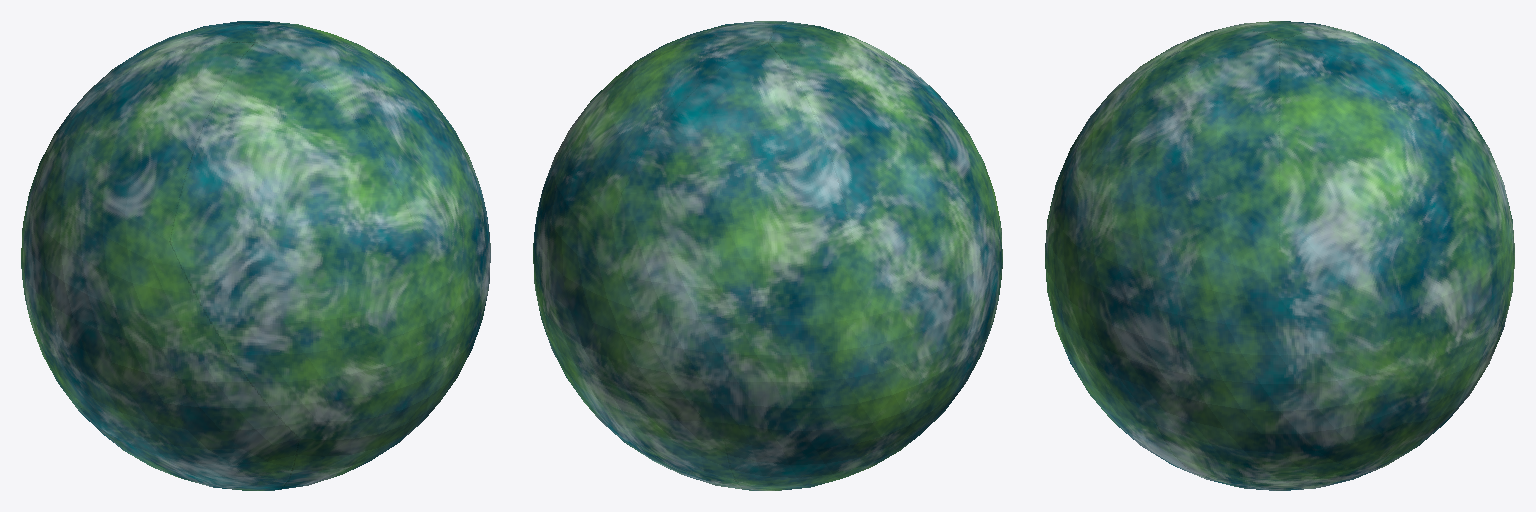
3 views of the same model, side by side, from view 1: azimuth 30°, elevation 25°; view 2: azimuth 150°, elevation 25°; view 3: azimuth 270°, elevation 25° (orthographic).
Visible parts, largest first — view 1: Icosphere.009; view 2: Icosphere.009; view 3: Icosphere.009.
Boxes of the visible parts, box(x1,y1,x2,y2) form: Icosphere.009: box(21, 21, 490, 490); Icosphere.009: box(533, 21, 1002, 490); Icosphere.009: box(1045, 21, 1514, 490).
Size of the model in its own units: 0.0776 by 0.0776 by 0.0776.
Materials: 1 (1 with a texture image).